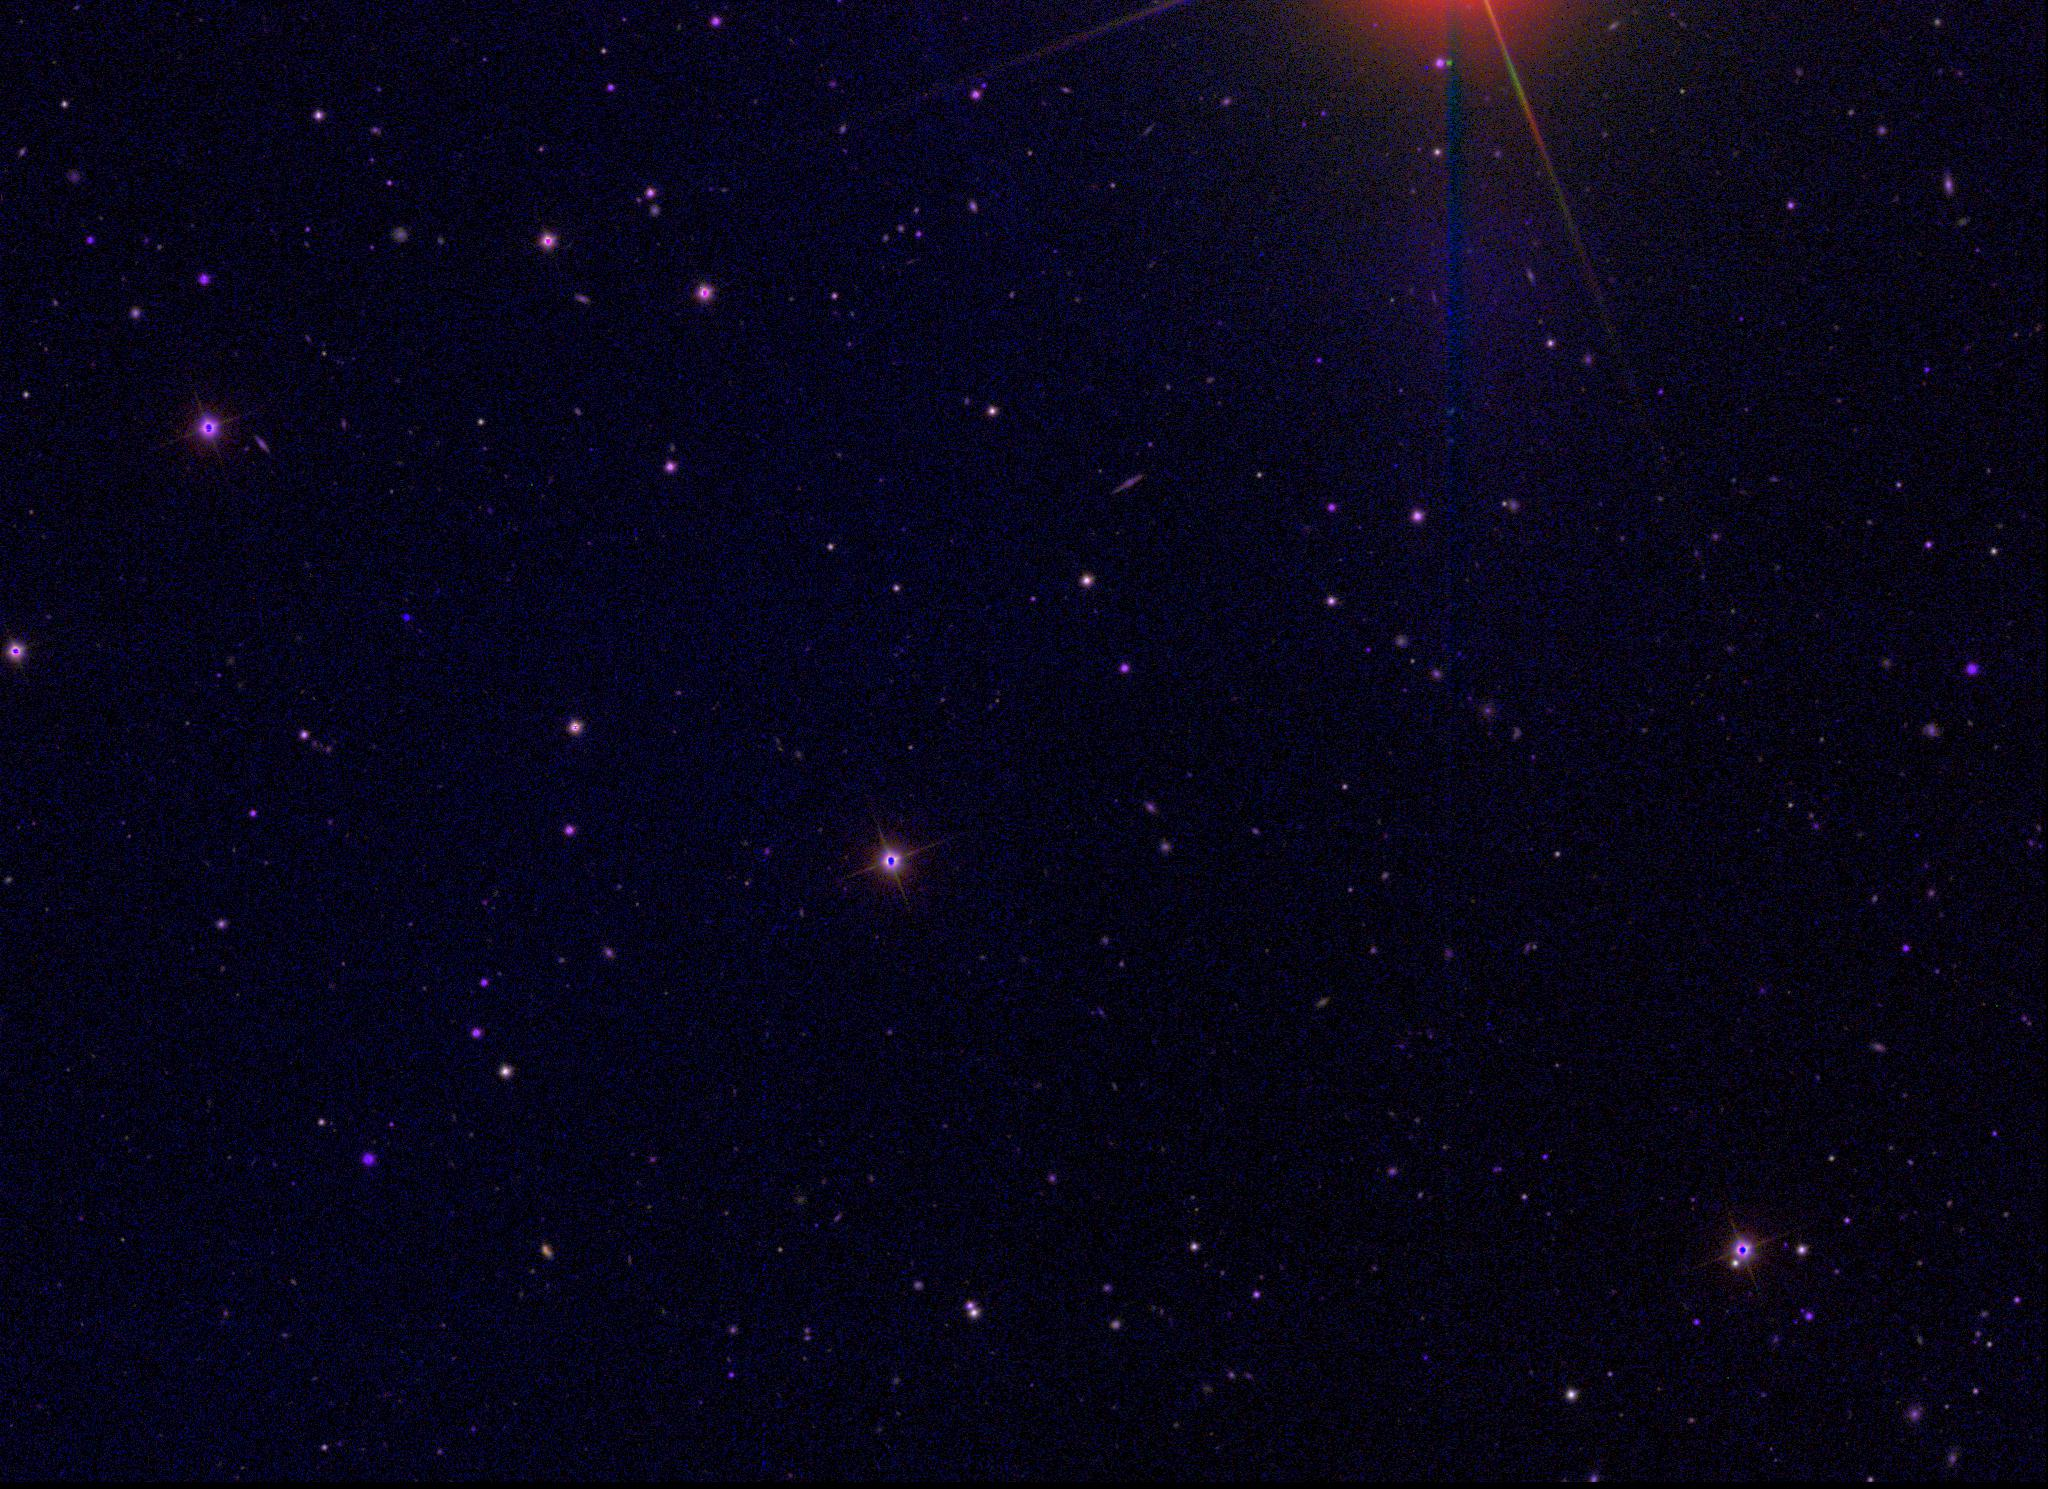L: (401, 611, 413, 625)
